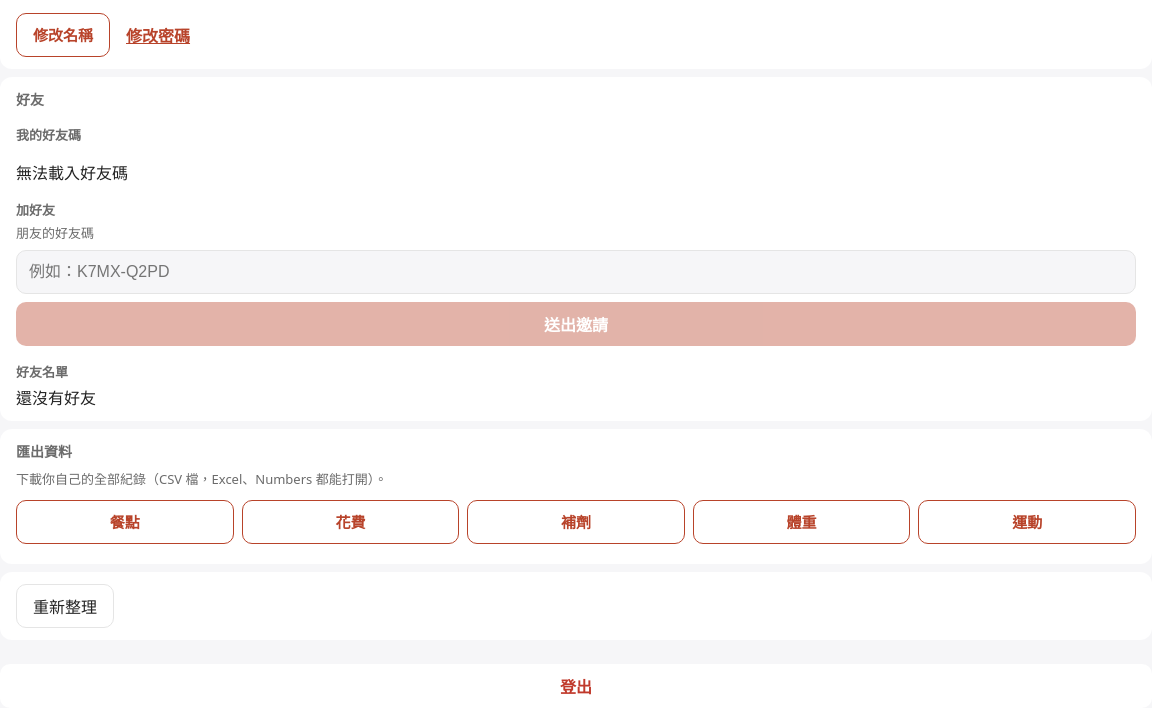
我的 › 「重新整理」直接打 /api/me 並顯示名稱
The image size is (1152, 708).
(page scrolled)
Click the button "重新整理". click: (65, 606)
box: [16,584,114,628]
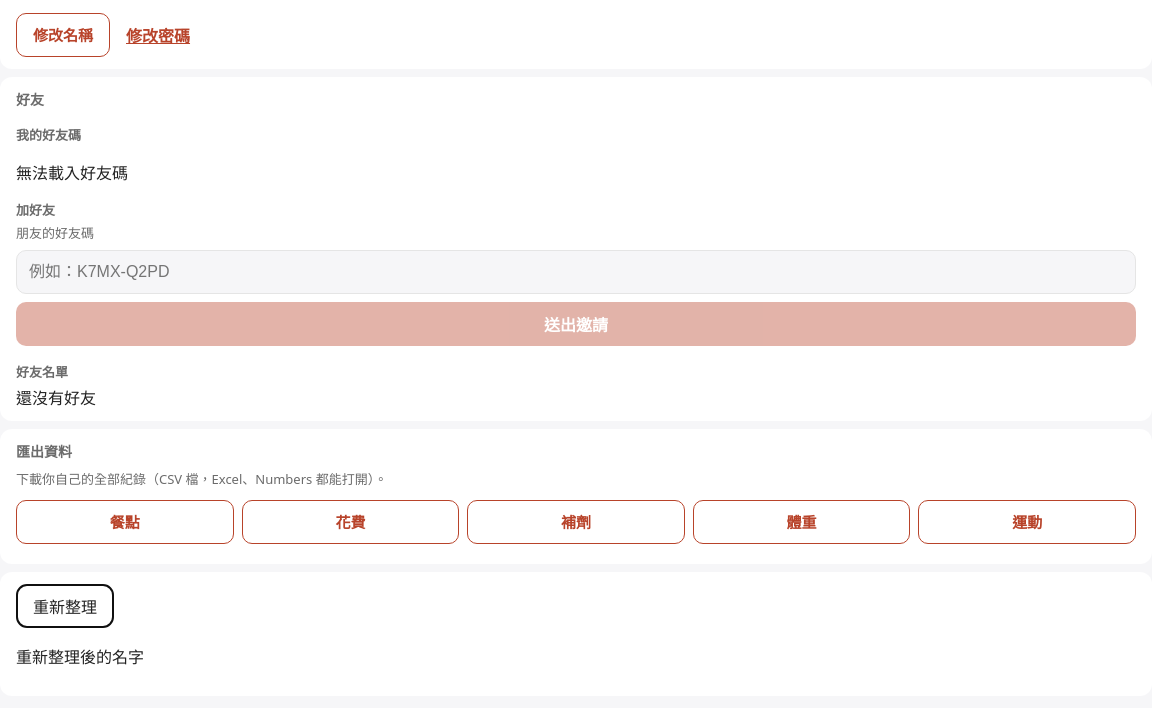
Check: the text "重新整理後的名字" is shown, box [16,646,144,668]
